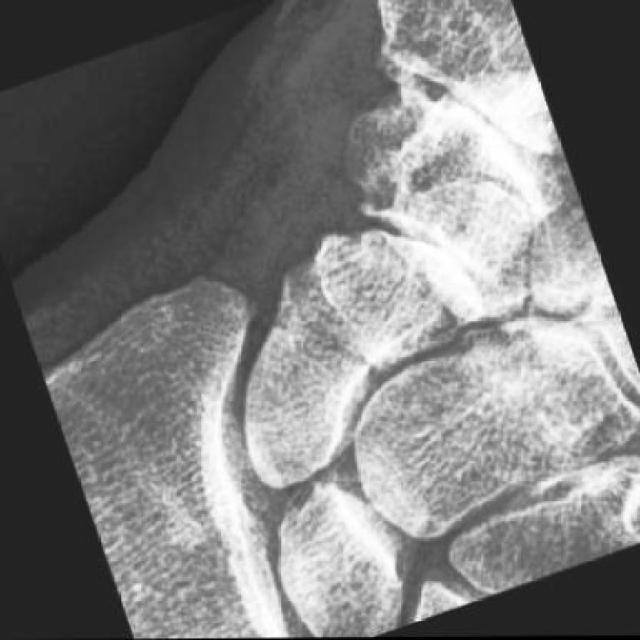Fracture: (257, 274, 385, 407)
